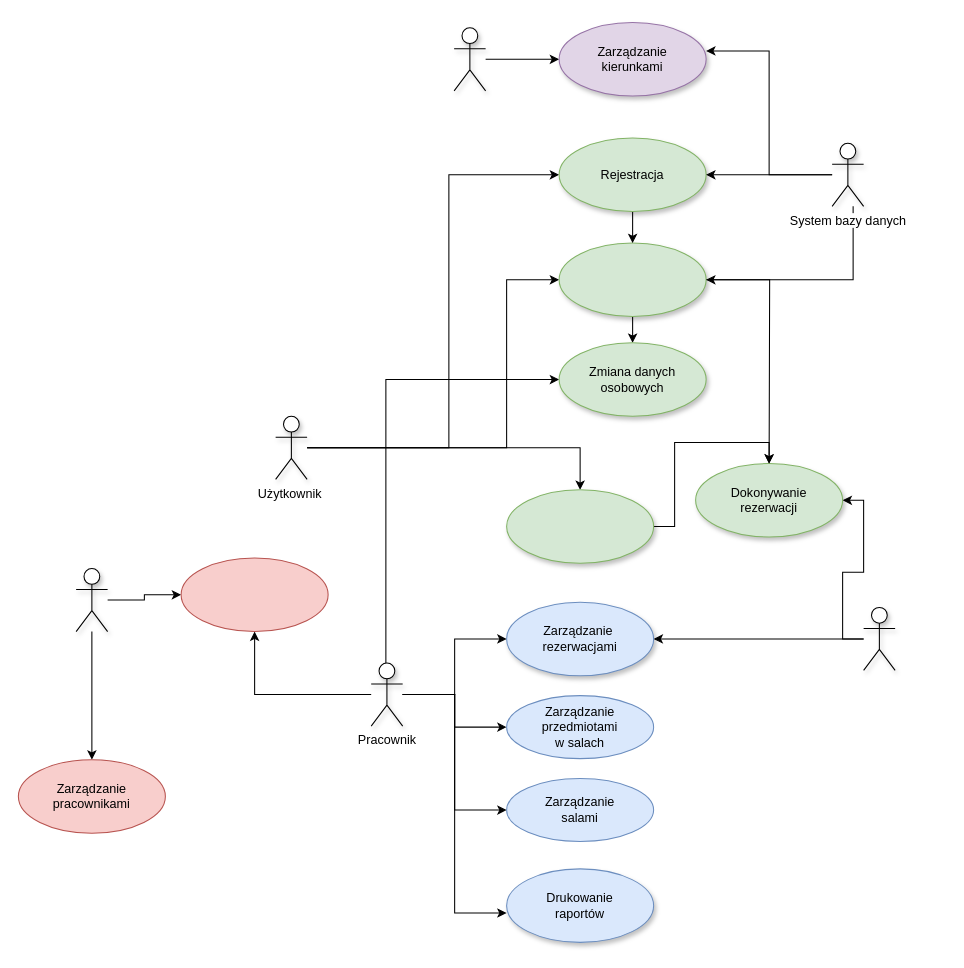
Some shapes in this 964 by 968 pixel diagram are drawn without their labels. Each missing label, with the centre of its shape:
"Administrator" belongs at (x=92, y=601).
"Edytowanie danych pracowników" belongs at (x=254, y=594).
"Logowanie" belongs at (x=633, y=281).
"Pracownik uczelni" belongs at (x=470, y=60).
"Przeglądanie oferty" belongs at (x=580, y=528).
"System obsługi aplikacji" belongs at (x=879, y=640).
